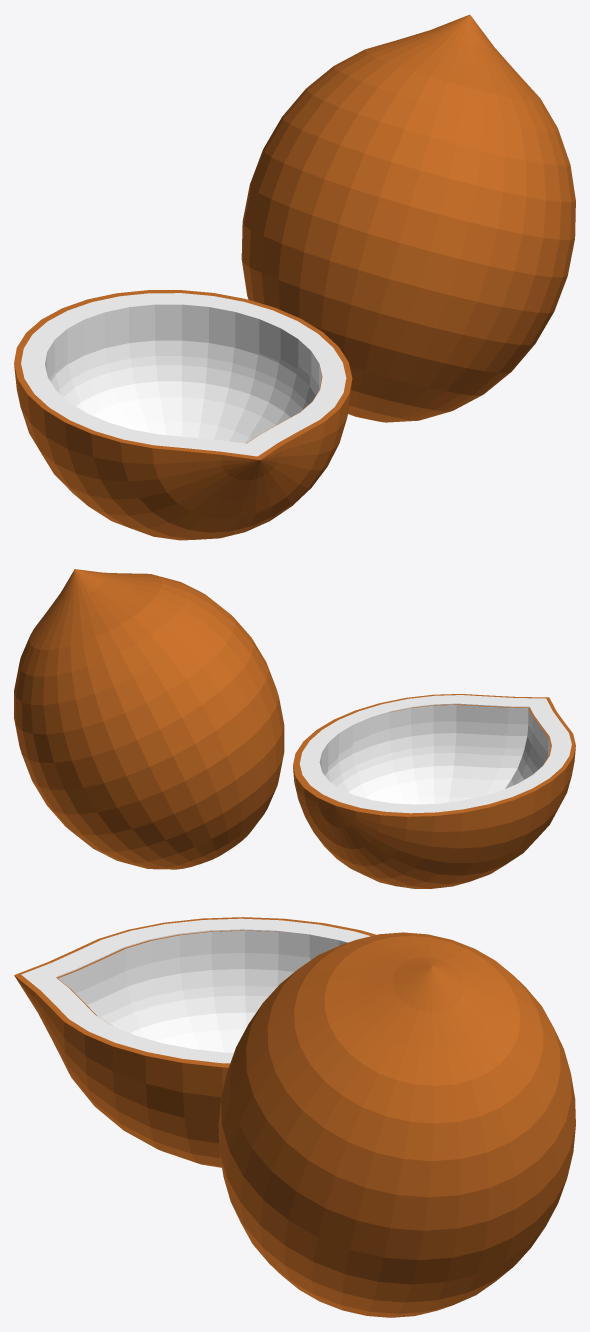
3 renders of one model, top to bottom at view 1: azimuth 30°, elevation 25°; view 2: azimuth 150°, elevation 25°; view 3: azimuth 270°, elevation 25°, orthographic. The views are drawn at different scales.
Visible parts, largest first — view 1: Sphere001, Object001; view 2: Sphere001, Object001; view 3: Sphere001, Object001.
Boxes of the visible parts, x1,y1,x2,y2 form: Sphere001: (241, 14, 575, 422); Object001: (14, 290, 352, 540); Sphere001: (14, 569, 284, 869); Object001: (293, 694, 575, 888); Sphere001: (218, 932, 575, 1317); Object001: (14, 917, 376, 1167).
Size of the model in its own units: 516198 by 301685 by 398930.
